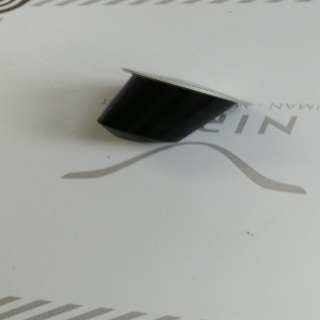capsule_10: (95, 66, 244, 145)
